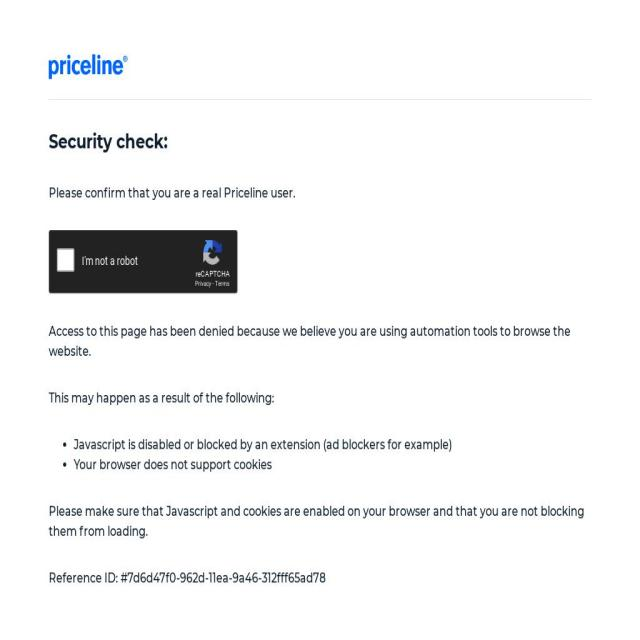heading: (49, 126, 591, 156)
iframe: (49, 230, 239, 295)
image: (49, 53, 128, 80)
text: (49, 322, 591, 362), (49, 502, 591, 542), (49, 184, 591, 204), (49, 388, 591, 408), (49, 568, 591, 588), (74, 435, 591, 455), (74, 455, 591, 475)
